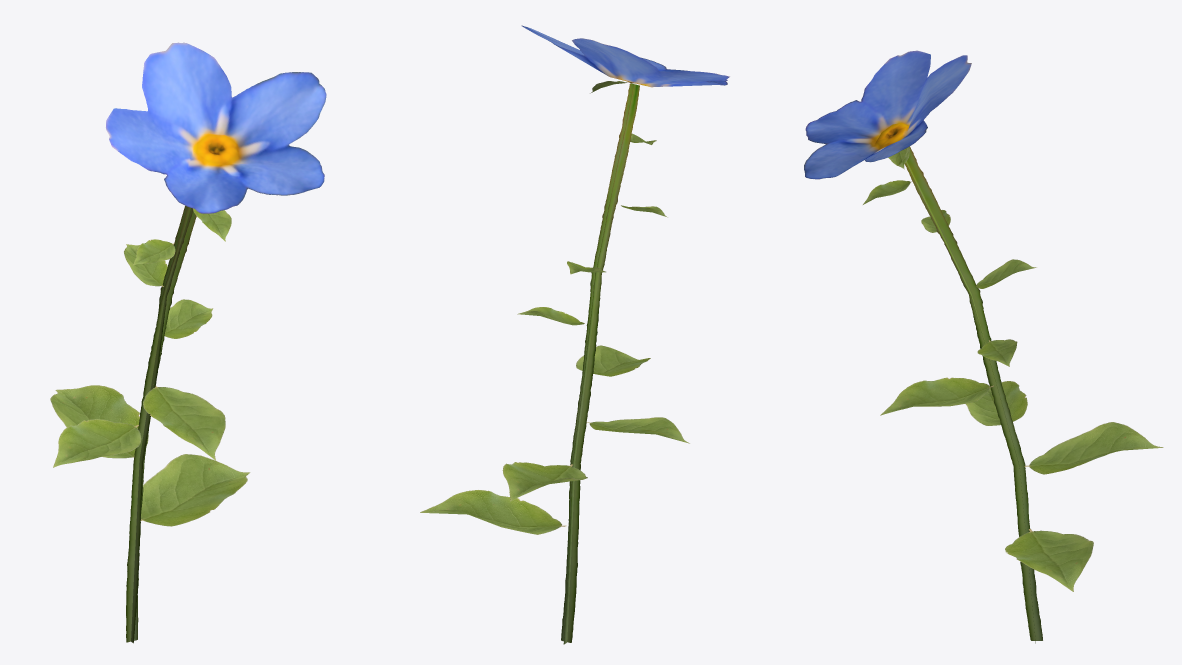
The model's file is BlueFLower_1.fbx.
The picture shows the model from 3 angles, left to right: view 1: azimuth 30°, elevation 25°; view 2: azimuth 150°, elevation 25°; view 3: azimuth 270°, elevation 25°; orthographic projection. The views are drawn at different scales.
Parts seen in each view (by area): view 1: BlueFLower_1; view 2: BlueFLower_1; view 3: BlueFLower_1.
Part boxes in pixels (bbox=[...]): BlueFLower_1: bbox=[50, 42, 326, 643]; BlueFLower_1: bbox=[420, 25, 729, 644]; BlueFLower_1: bbox=[804, 50, 1163, 643].
Size of the model in its own units: 0.1259 by 0.2781 by 0.1577.
